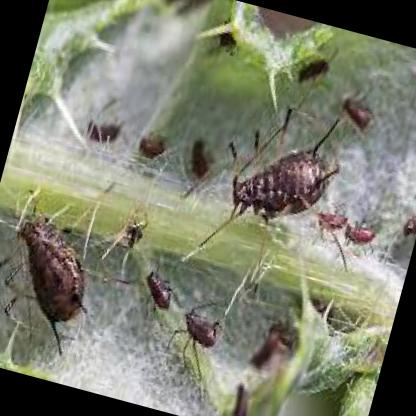uroleucon compositae: (228, 107, 339, 224), (15, 198, 85, 355)
